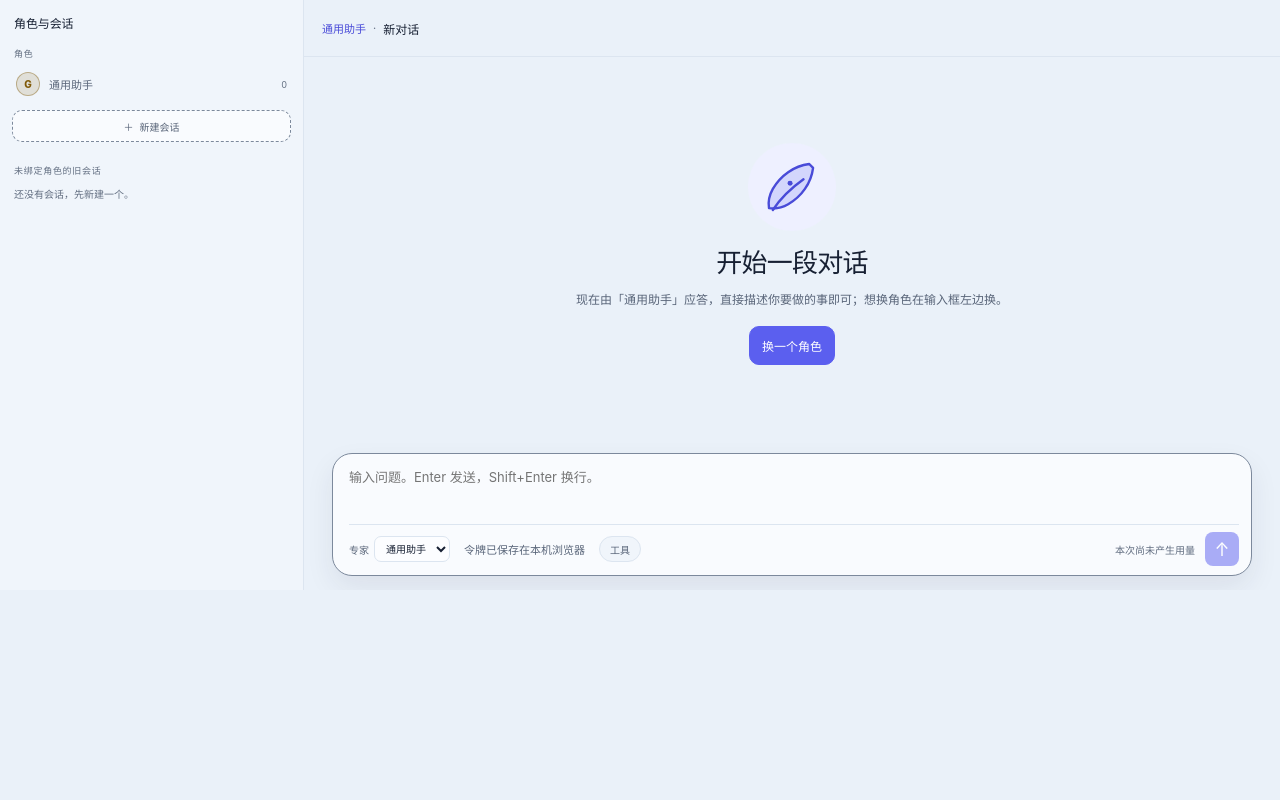
Scenario: 发送失败后仍能看到自己发出去的那条消息（ISSUE-039）
expect the dropdown is shown: met, box [374,536,450,562]
Type "帮我算一下 1+1" into the text box named "消息" at (794,491), box [349,463,1239,519]
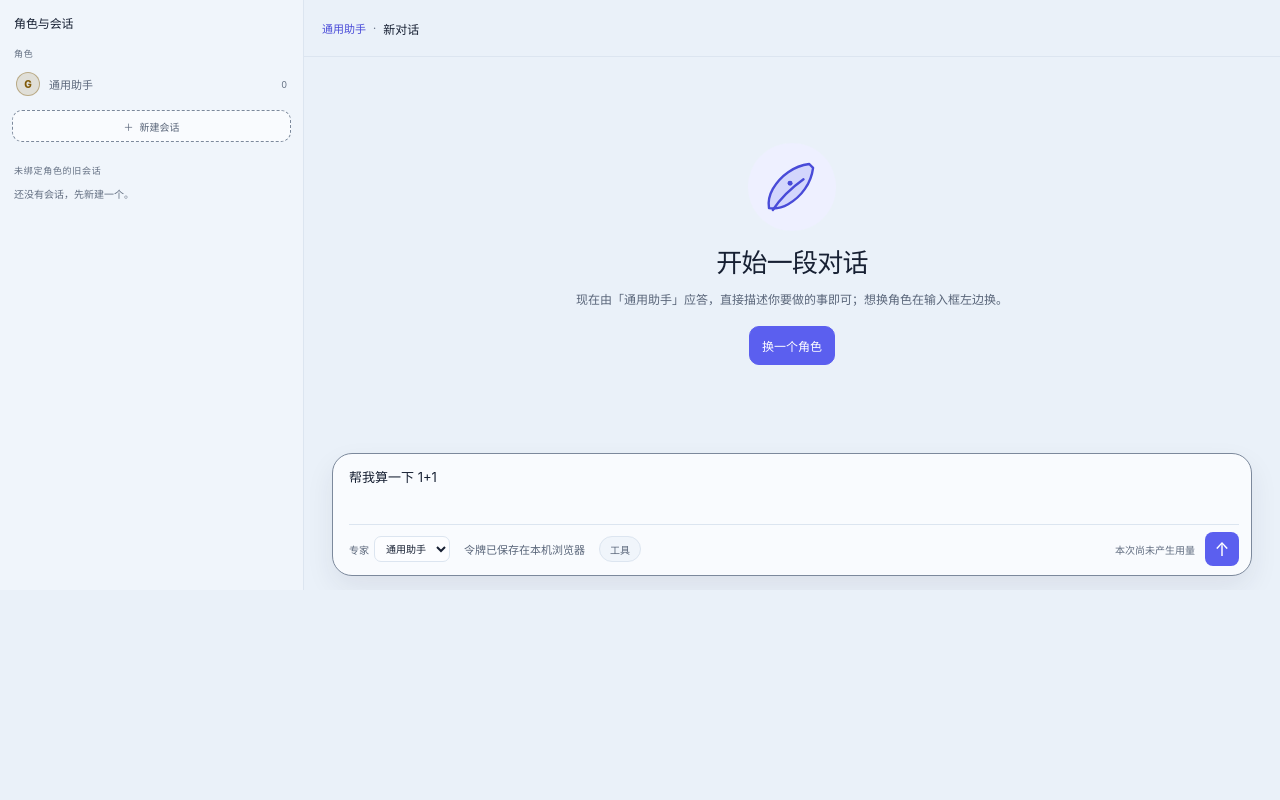
Submit the form named "消息", box [332,453,1252,576]
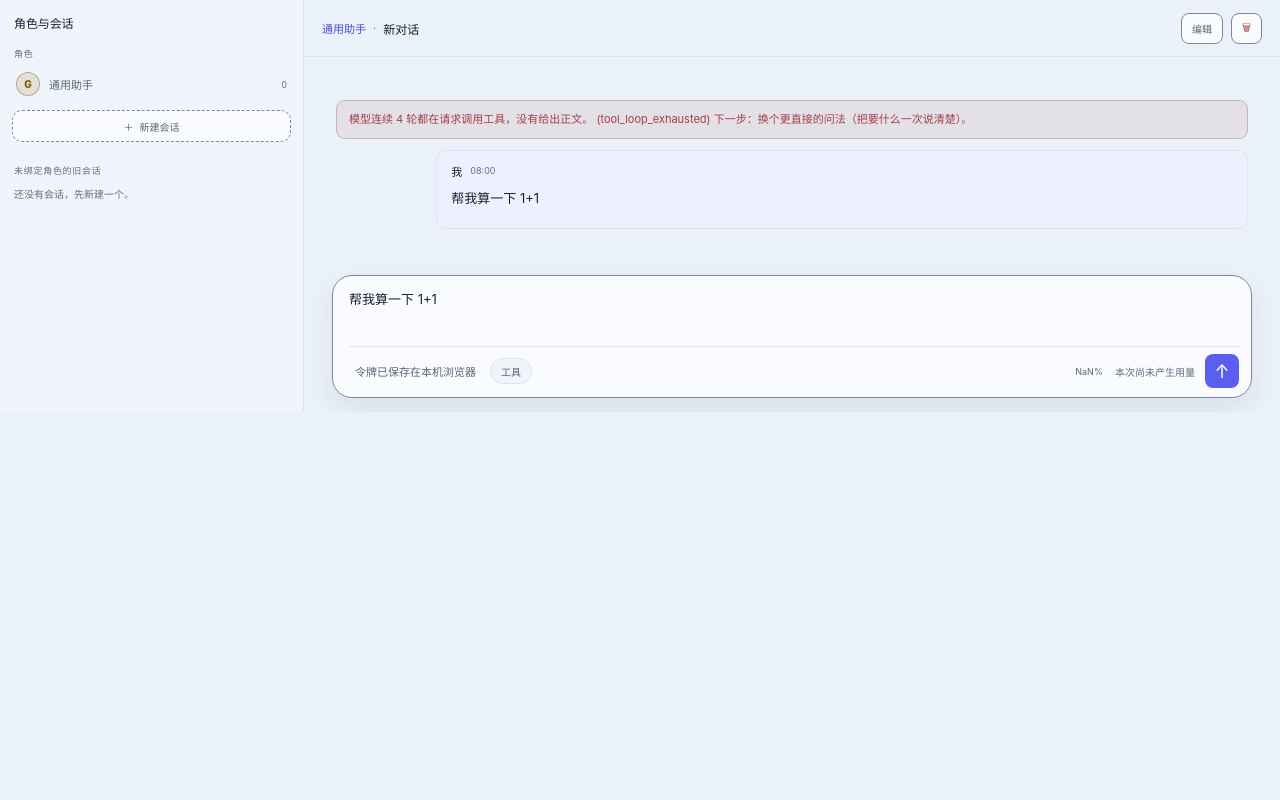
expect the message "模型连续 4 轮都在请求调用工具，没有给出正文。 (tool_loop_exhausted) 下一步：换个更直接的问法（把要什么一次说清楚）。" is shown: met, box [336,100,1248,138]
expect the text "帮我算一下 1+1" is shown: met, box [451,190,539,206]
expect the heading "开始一段对话" is gone: met
